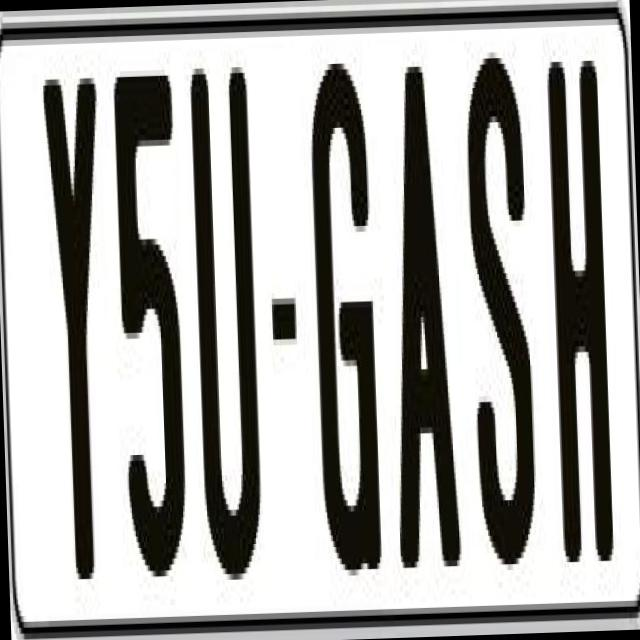5: (108, 64, 186, 572)
A: (380, 59, 465, 591)
G: (306, 44, 382, 558)
H: (542, 59, 612, 586)
S: (464, 39, 542, 576)
U: (184, 55, 264, 598)
Y: (38, 78, 112, 586)
